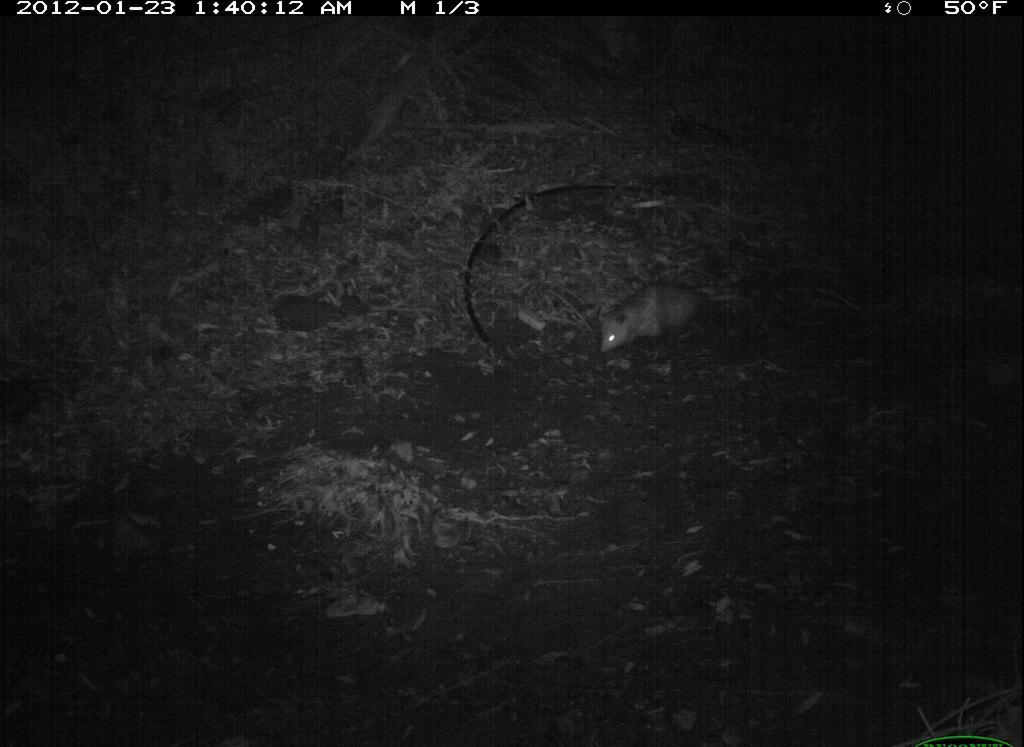opossum: (578, 276, 747, 368)
